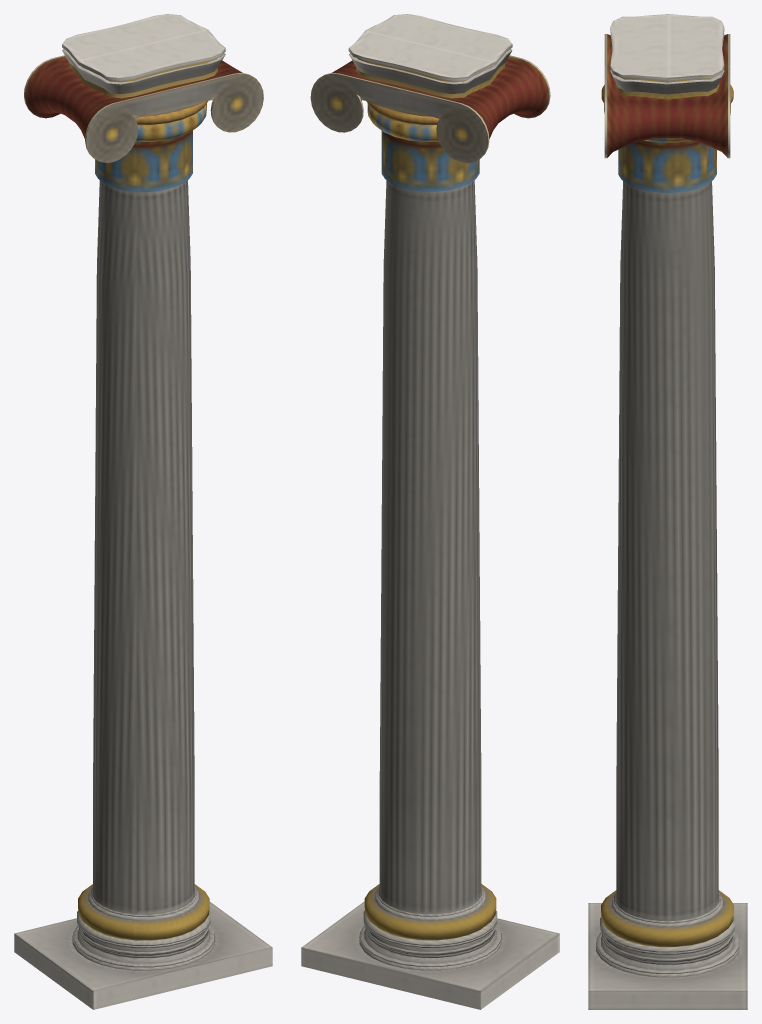
The model's file is ionic-column.glb.
3 views of the same model, side by side, from view 1: azimuth 30°, elevation 25°; view 2: azimuth 150°, elevation 25°; view 3: azimuth 270°, elevation 25° (orthographic).
Parts seen in each view (by area): view 1: Object_2; view 2: Object_2; view 3: Object_2.
Boxes of the visible parts, x1,y1,x2,y2 form: Object_2: (14,14,272,1009); Object_2: (301,14,559,1009); Object_2: (588,14,747,1009).
Size of the model in its own units: 4.01 by 19.52 by 3.06.
Materials: 1 (1 with a texture image).
